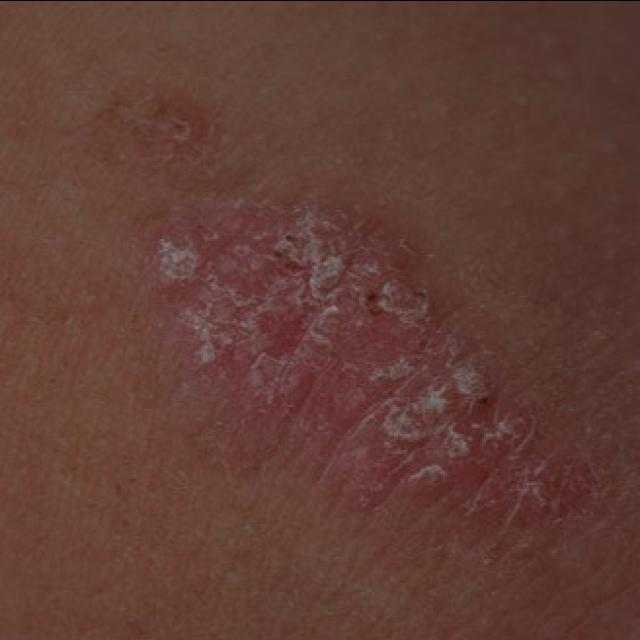Psoriasis: (105, 100, 588, 620)
